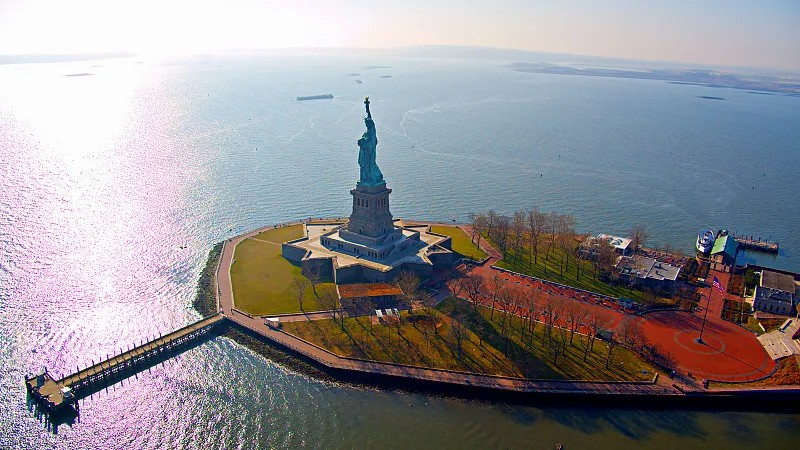SL: (348, 96, 394, 238)
